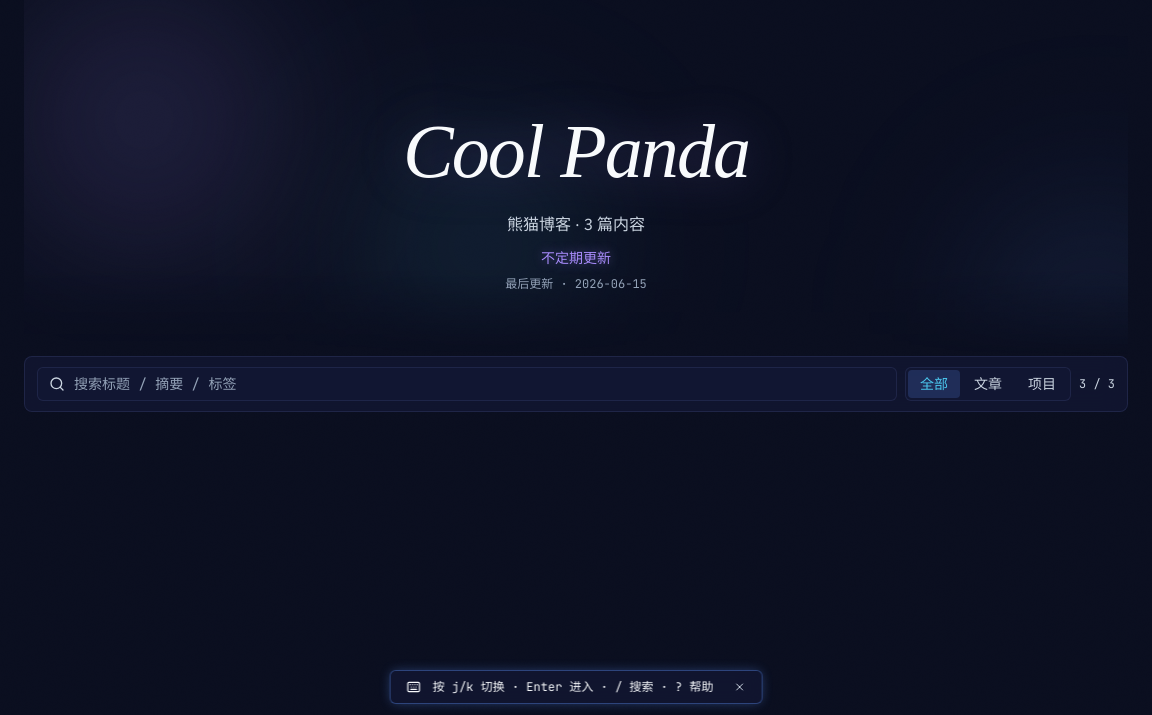
Test case: Home 搜索过滤（与分类正交） › Esc 在搜索框聚焦时清空 query
Type "亲密" into the search field with placeholder "搜索标题 / 摘要 / 标签" at (467, 384), box top-left (37, 367), bottom-right (897, 401)
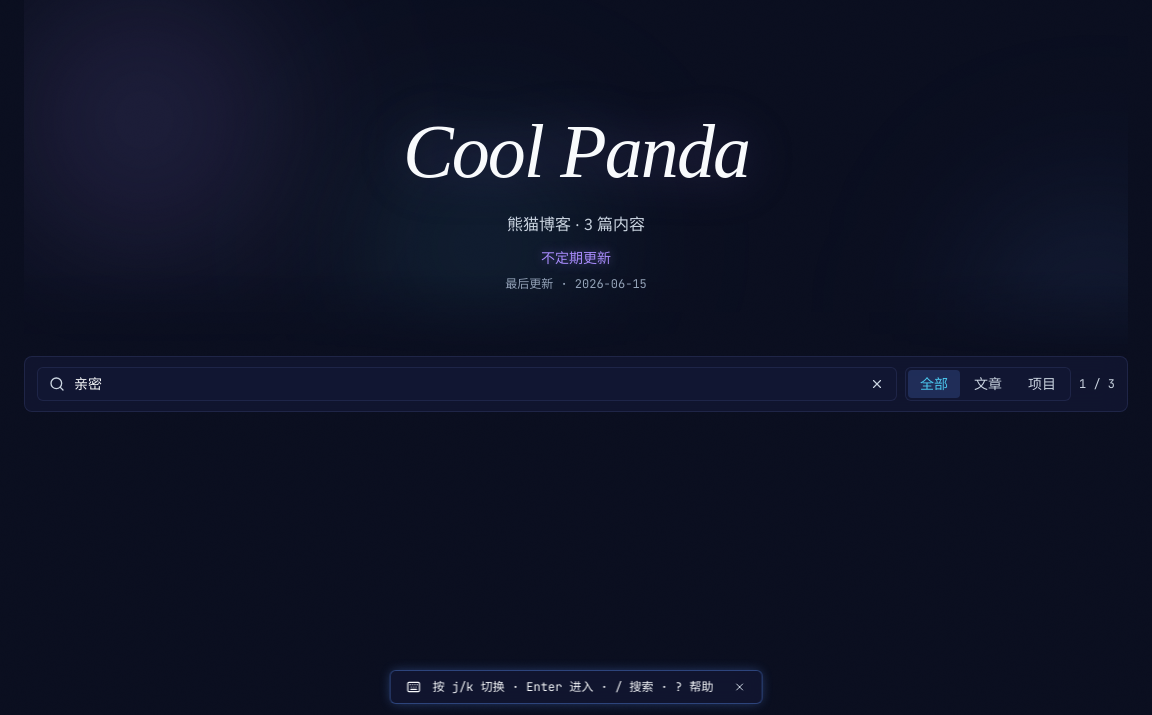
Check: the text "首页文章" is not shown
// Esc → 清空 → 全部恢复
Press Escape in the search field named "搜索内容", box top-left (37, 367), bottom-right (897, 401)
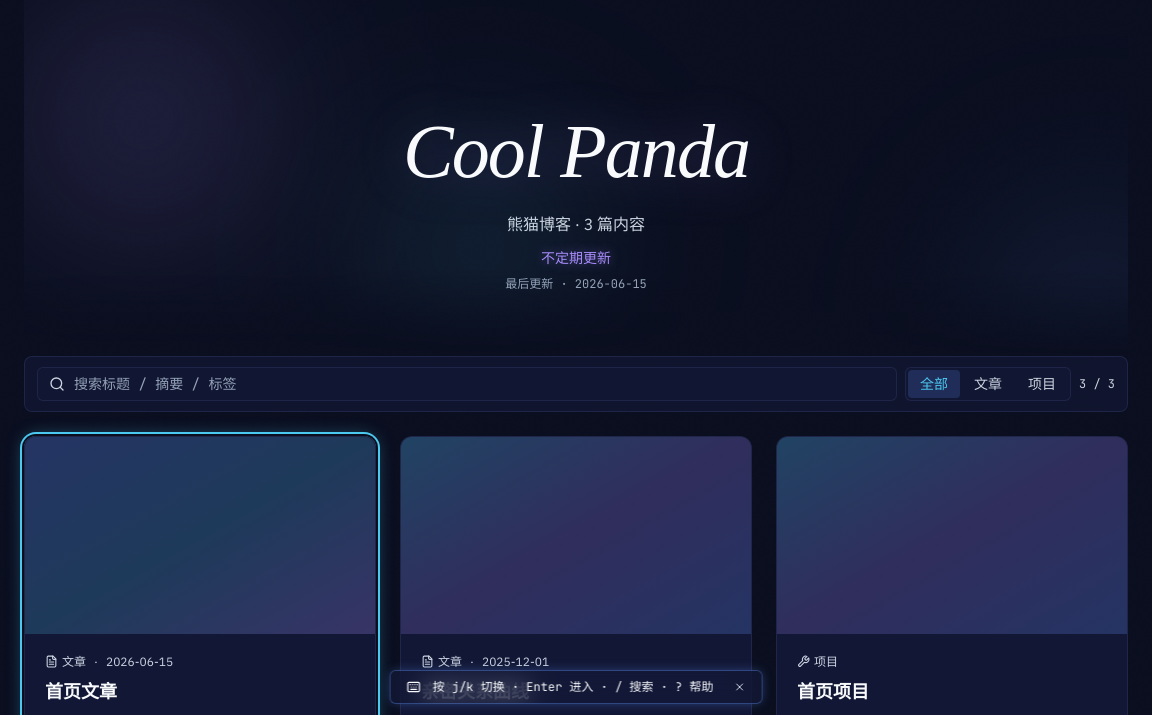
Check: the search field with placeholder "搜索标题 / 摘要 / 标签" is empty, box top-left (37, 367), bottom-right (897, 401)
Check: the heading "首页文章" is shown, box top-left (45, 680), bottom-right (117, 703)
Check: the heading "首页项目" is shown, box top-left (797, 680), bottom-right (869, 703)
